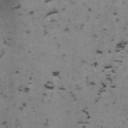oxide scale of temperature system: (14, 12, 128, 128), (14, 0, 70, 36), (0, 40, 8, 59), (2, 120, 7, 126), (88, 7, 92, 12), (46, 117, 48, 122)
